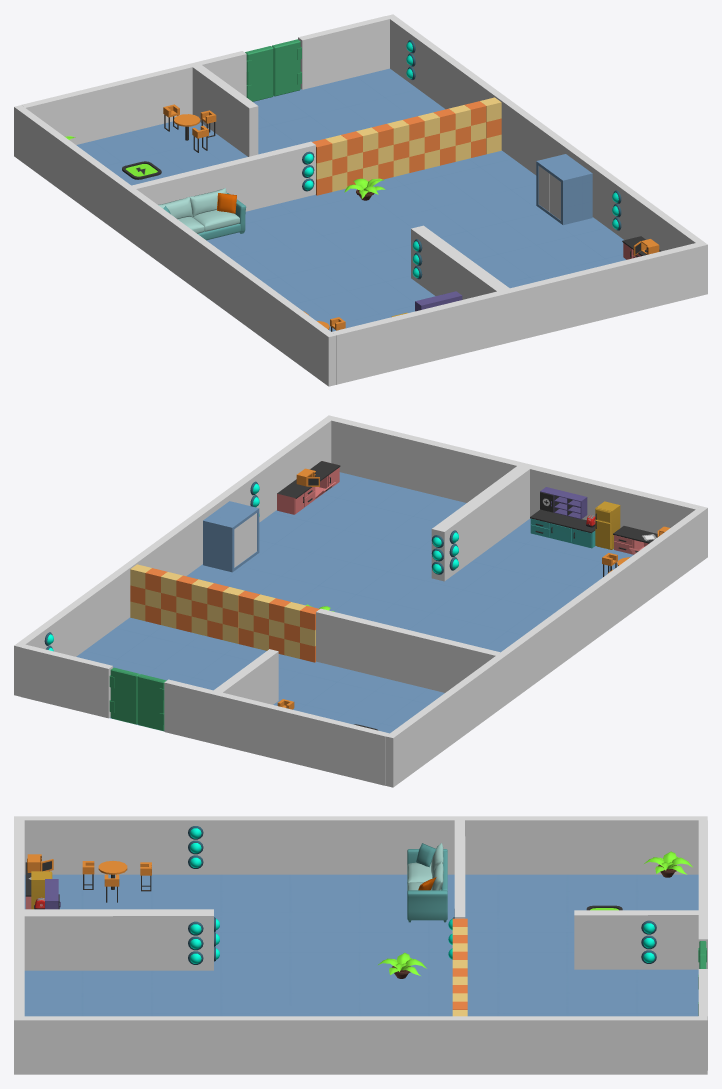
File: maps_17.fbx
3 renders of one model, top to bottom at view 1: azimuth 30°, elevation 25°; view 2: azimuth 150°, elevation 25°; view 3: azimuth 270°, elevation 25°, orthographic. The views are drawn at different scales.
Visible parts, largest first — view 1: frames_13_geo, frames_06_geo, frames_03_geo, frames_04_geo, frames_12_geo, frames_02_geo1, frames_11_geo, frames_02_geo2, frames_02_geo3, sofa_geo, tu_01_geo, polySurface6 (+1 smaller); view 2: frames_13_geo, frames_03_geo, frames_06_geo, frames_04_geo, frames_12_geo, frames_02_geo1, frames_02_geo2, frames_11_geo, tu_01_geo, frames_02_geo3, polySurface111, polySurface114 (+5 smaller); view 3: frames_13_geo, frames_04_geo, frames_03_geo, frames_02_geo2, frames_02_geo3, sofa_geo, frames_06_geo, frames_12_geo, frames_02_geo1, tu_01_geo, Imbush_geo2, Imbush_geo3 (+4 smaller).
Part boxes in pixels (<box>): frames_13_geo: <box>76,68,626,331</box>; frames_06_geo: <box>332,243,700,384</box>; frames_03_geo: <box>14,105,335,386</box>; frames_04_geo: <box>386,14,707,295</box>; frames_12_geo: <box>21,51,246,144</box>; frames_02_geo1: <box>131,141,315,211</box>; frames_11_geo: <box>298,16,389,89</box>; frames_02_geo2: <box>411,225,509,299</box>; frames_02_geo3: <box>192,65,258,156</box>; sofa_geo: <box>158,188,246,240</box>; tu_01_geo: <box>536,154,592,225</box>; polySurface6: <box>272,39,301,96</box>; frames_13_geo: <box>76,472,633,733</box>; frames_03_geo: <box>386,506,707,787</box>; frames_06_geo: <box>331,417,699,533</box>; frames_04_geo: <box>14,415,335,696</box>; frames_12_geo: <box>164,679,389,785</box>; frames_02_geo1: <box>316,608,500,692</box>; frames_02_geo2: <box>431,466,529,581</box>; frames_11_geo: <box>21,644,112,718</box>; tu_01_geo: <box>203,501,259,572</box>; frames_02_geo3: <box>214,649,278,704</box>; polySurface111: <box>530,509,595,548</box>; polySurface114: <box>277,461,340,514</box>; frames_13_geo: <box>24,874,698,1016</box>; frames_04_geo: <box>14,1016,707,1074</box>; frames_03_geo: <box>14,816,707,874</box>; frames_02_geo2: <box>24,909,213,970</box>; frames_02_geo3: <box>574,910,698,969</box>; sofa_geo: <box>407,843,447,922</box>; frames_06_geo: <box>14,820,24,1016</box>; frames_12_geo: <box>698,820,707,968</box>; frames_02_geo1: <box>454,820,465,918</box>; tu_01_geo: <box>250,1005,309,1016</box>; Imbush_geo2: <box>644,851,692,877</box>; Imbush_geo3: <box>378,952,426,978</box>.
Size of the model in its own units: 71.19 by 9.45 by 102.
14 materials, 14 textured.
